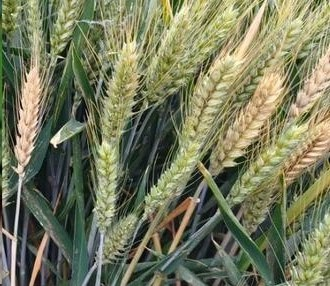Wheat scab: (197, 38, 325, 196), (12, 61, 47, 175)
